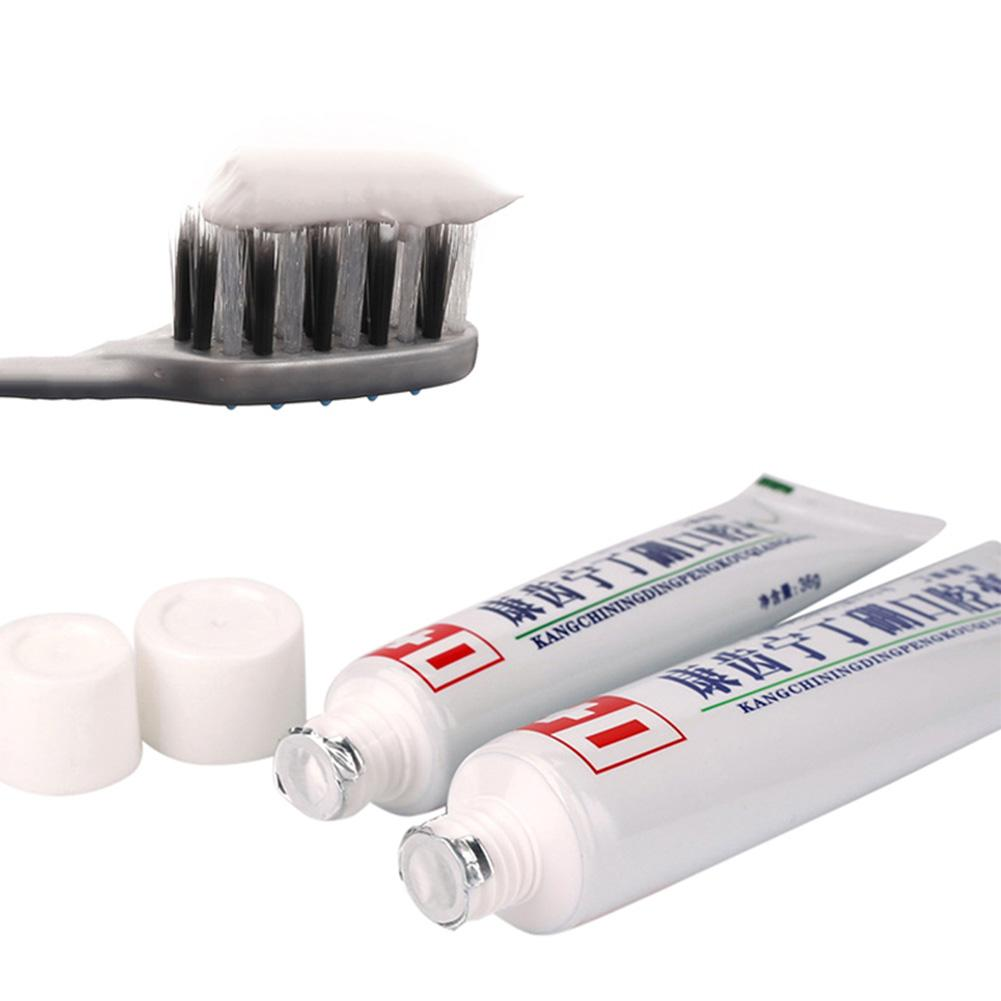toothpaste: (365, 524, 1001, 955), (249, 463, 947, 808)
